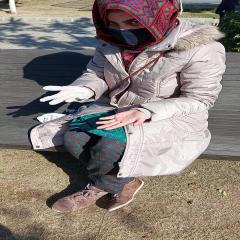gloved: (41, 86, 87, 104)
not-gloved: (96, 111, 144, 131)
